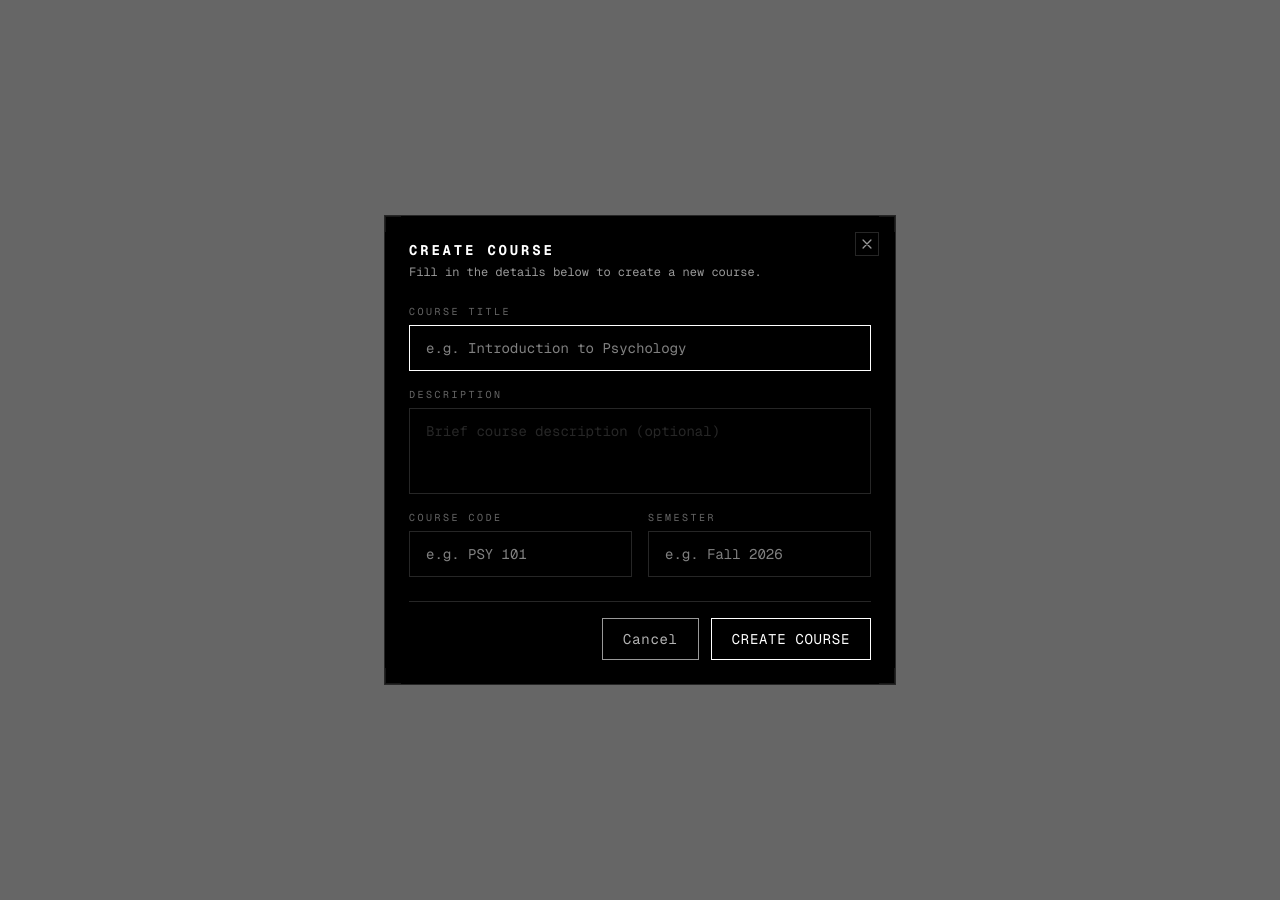
Test: CreateCourseModal › shows generic error on network failure
Type "Psych 101" into the field labelled "Course Title".
click(640, 348); type("Psych 101")  # box [409,325,871,371]
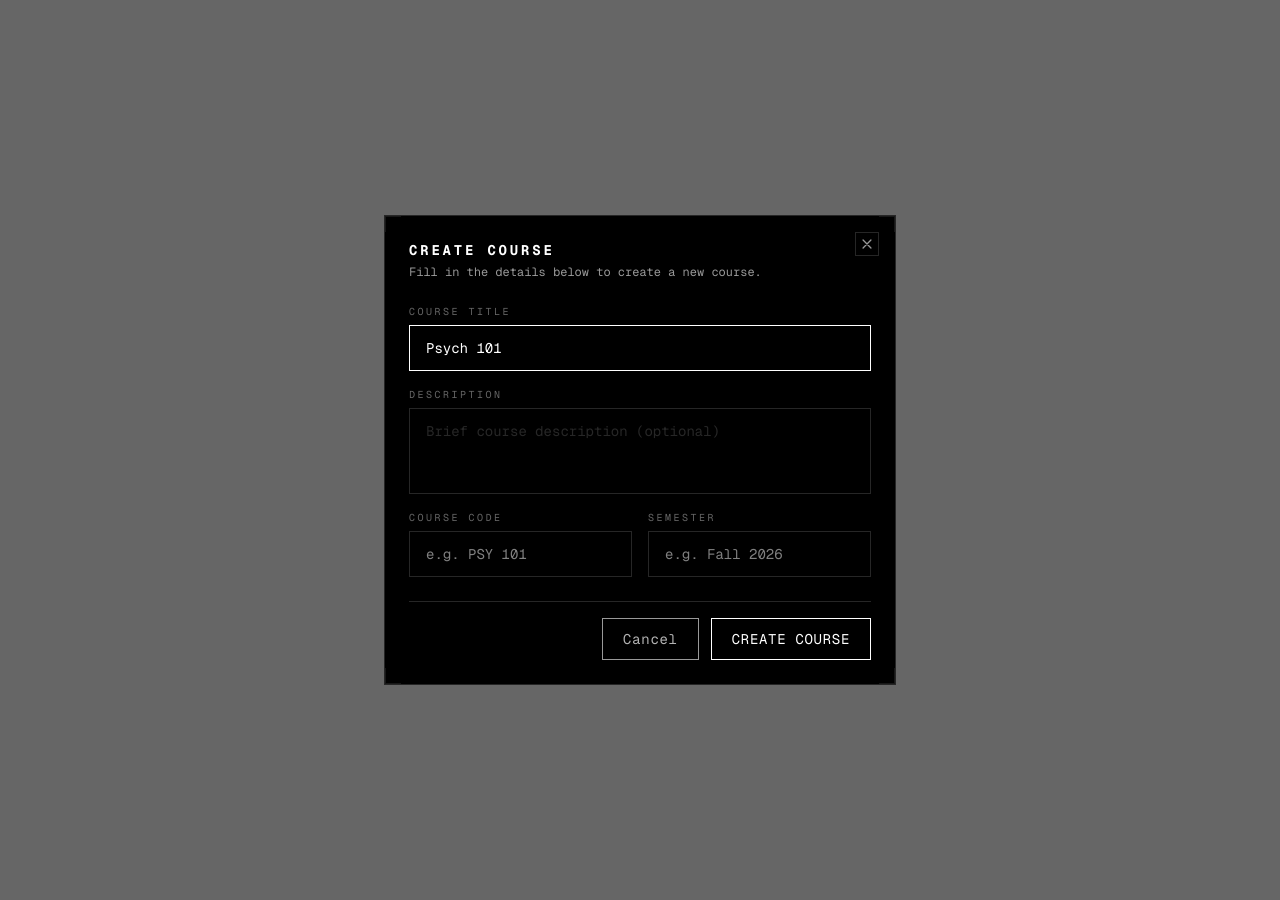
Type "PSY 101" into the field labelled "Course Code".
click(520, 554); type("PSY 101")  # box [409,531,632,577]
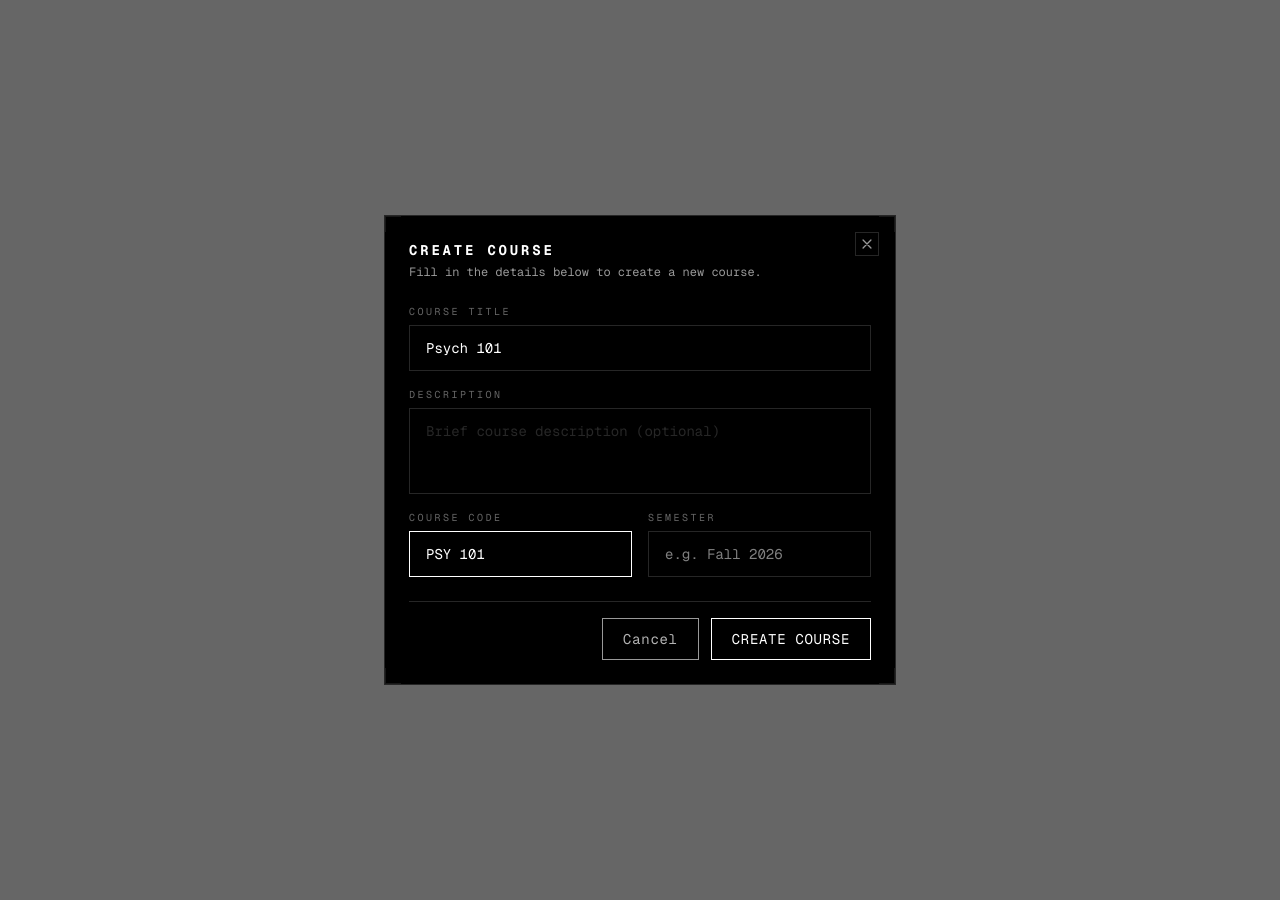
Type "Fall 2026" into the field labelled "Semester".
click(760, 554); type("Fall 2026")  # box [648,531,871,577]
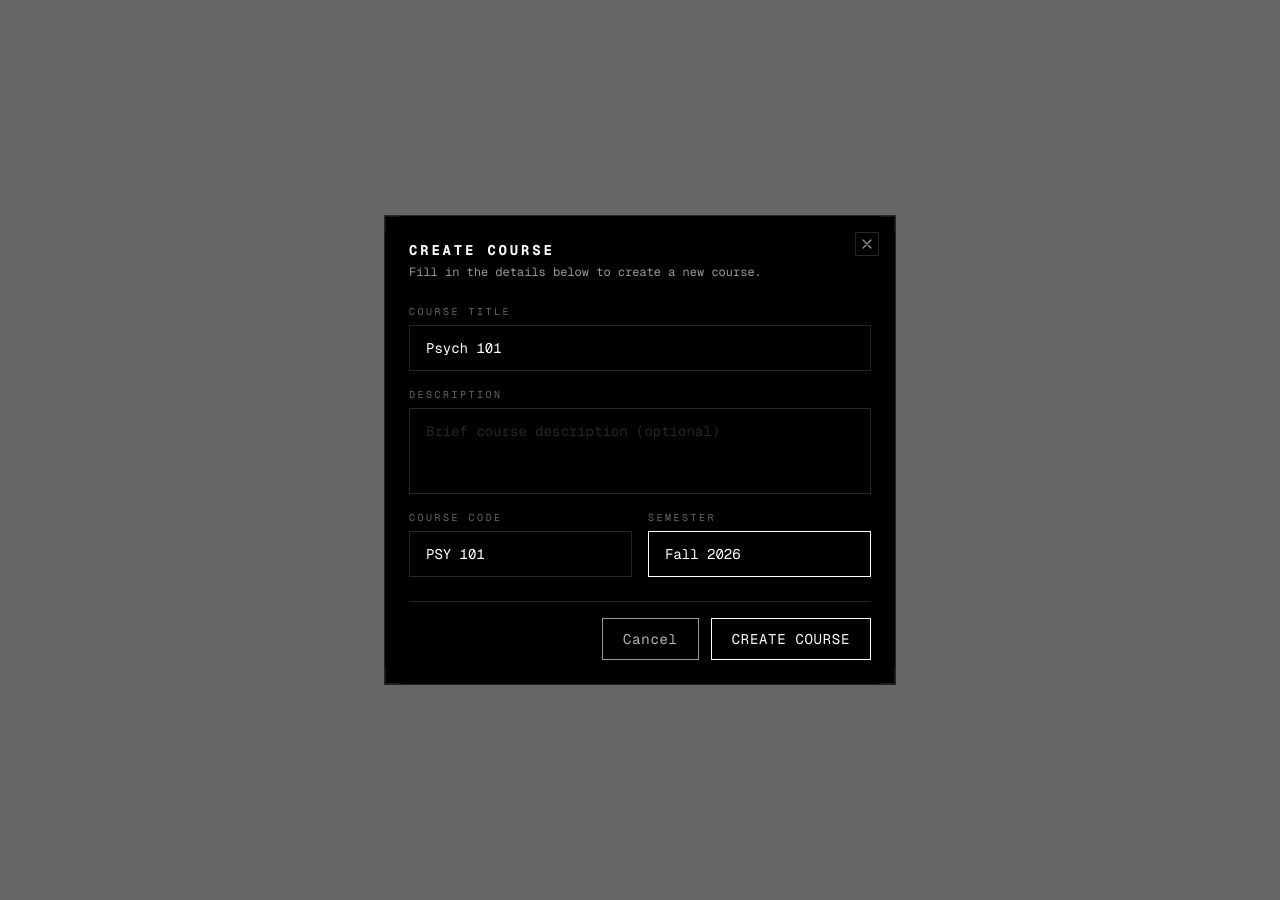
Click the button "CREATE COURSE".
click(791, 639)  # box [711,618,871,660]
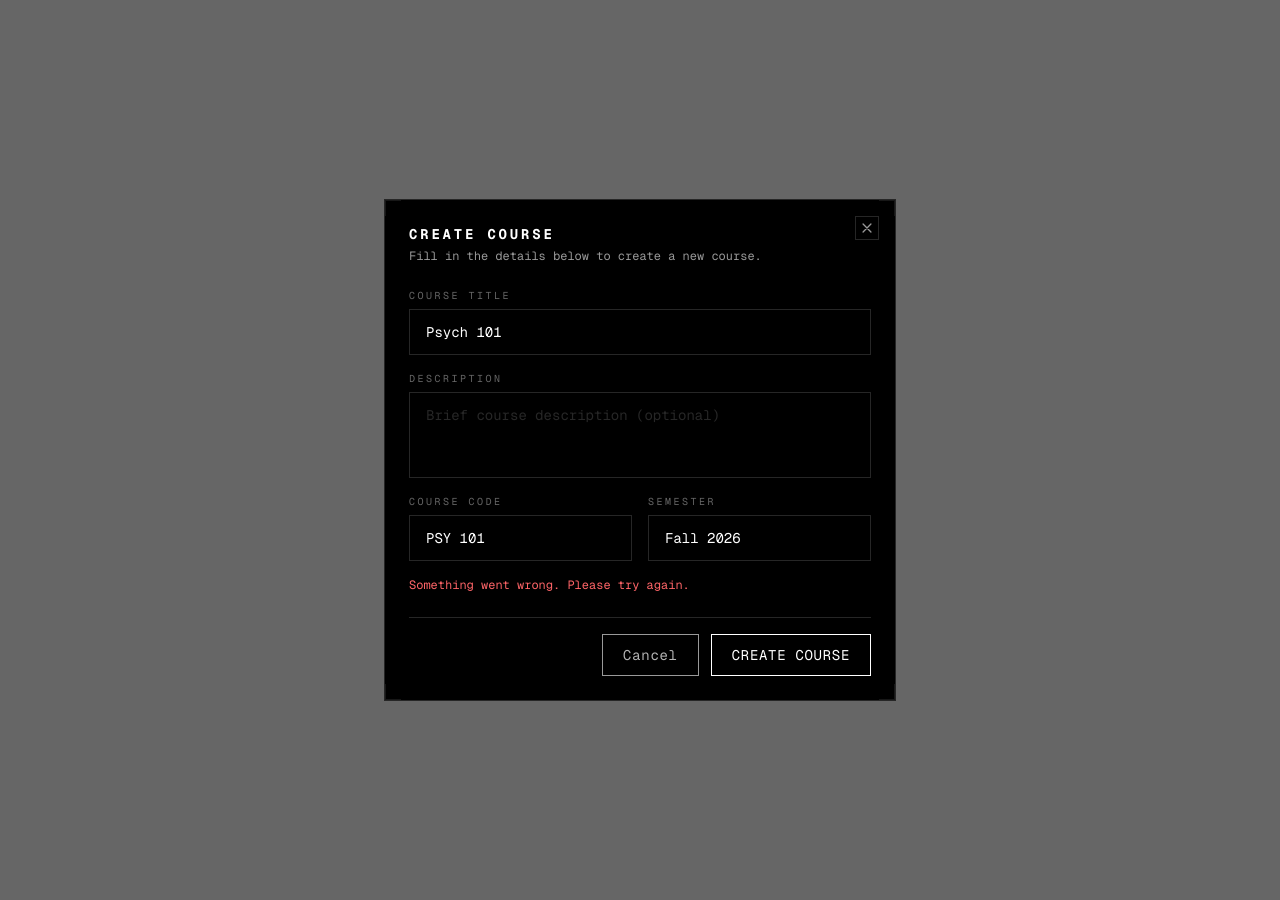
Now the text "Something went wrong. Please try again." is shown, box [409,577,690,593]
